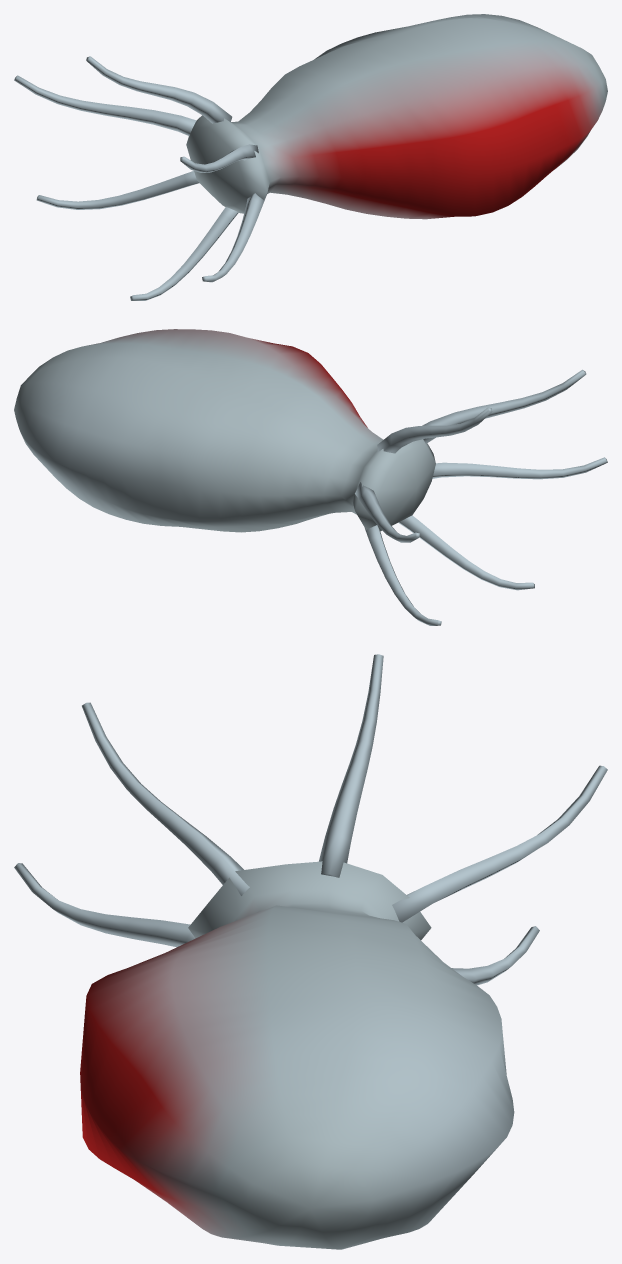
File: bolsa_plastica.fbx
3 renders of one model, top to bottom at view 1: azimuth 30°, elevation 25°; view 2: azimuth 150°, elevation 25°; view 3: azimuth 270°, elevation 25°, orthographic. The views are drawn at different scales.
Visible parts, largest first — view 1: bolsa_plastica; view 2: bolsa_plastica; view 3: bolsa_plastica.
Boxes of the visible parts, left/top/right/bottom form: bolsa_plastica: left=14, top=14, right=607, bottom=300; bolsa_plastica: left=14, top=329, right=607, bottom=625; bolsa_plastica: left=14, top=654, right=607, bottom=1249.
Bounding box in the file's own units: 60 × 40.54 × 25.36.
